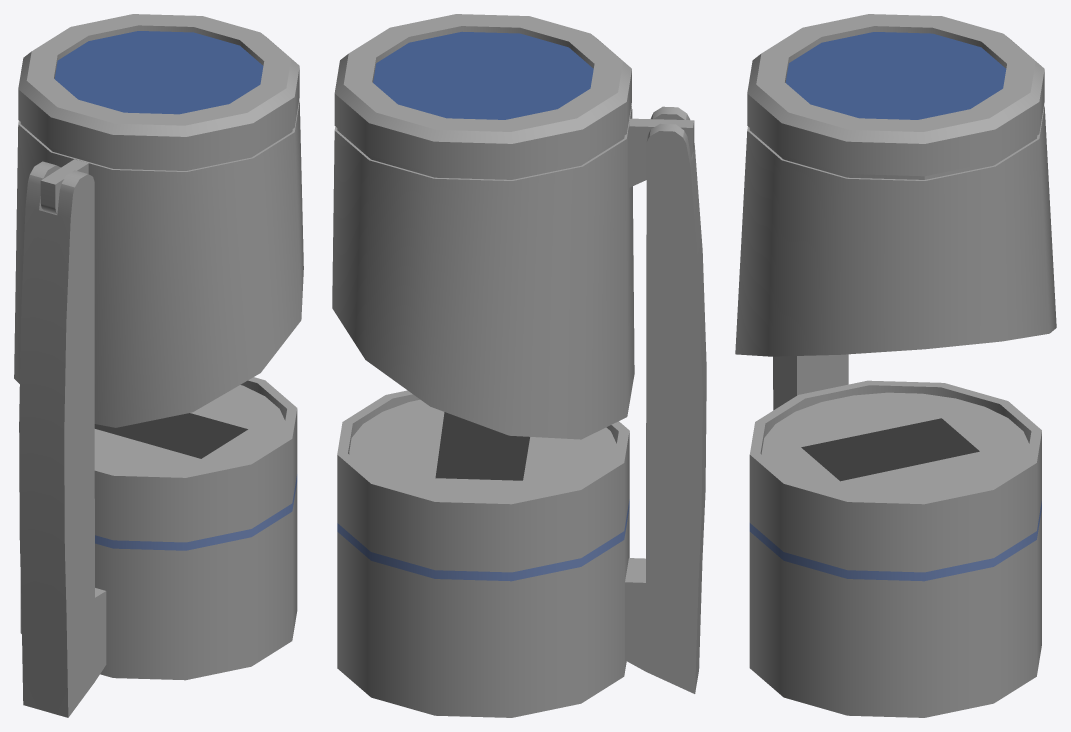
Rendered from Air sampler.fbx.
3 views of the same model, side by side, from view 1: azimuth 30°, elevation 25°; view 2: azimuth 150°, elevation 25°; view 3: azimuth 270°, elevation 25° (orthographic). The views are drawn at different scales.
Parts seen in each view (by area): view 1: pasted__polySurface1337, polySurface1506, pasted__pCylinder130, pasted__pCylinder128, polySurface1512, polySurface1511, pasted__pCylinder129; view 2: pasted__polySurface1337, polySurface1506, pasted__pCylinder128, pasted__pCylinder130, polySurface1512, polySurface1511, pasted__pCylinder129; view 3: polySurface1506, pasted__polySurface1337, pasted__pCylinder128, polySurface1512, polySurface1511, pasted__pCylinder130.
Part boxes in pixels (x1,y1,x2,y2): pasted__polySurface1337: (14, 100, 303, 427); polySurface1506: (20, 377, 297, 680); pasted__pCylinder130: (19, 161, 106, 717); pasted__pCylinder128: (18, 14, 299, 167); polySurface1512: (94, 385, 284, 473); polySurface1511: (94, 413, 247, 458); pasted__pCylinder129: (40, 159, 88, 213); pasted__polySurface1337: (332, 105, 634, 439); polySurface1506: (337, 390, 629, 717); pasted__pCylinder128: (334, 14, 631, 176); pasted__pCylinder130: (625, 106, 706, 693); polySurface1512: (349, 399, 616, 499); polySurface1511: (435, 412, 529, 480); pasted__pCylinder129: (629, 118, 694, 187); polySurface1506: (749, 380, 1041, 717); pasted__polySurface1337: (735, 105, 1056, 356); pasted__pCylinder128: (747, 14, 1044, 176); polySurface1512: (761, 392, 1029, 499); polySurface1511: (801, 418, 979, 481); pasted__pCylinder130: (773, 354, 848, 410).
Size of the model in its own units: 14.38 by 26.47 by 12.79.
